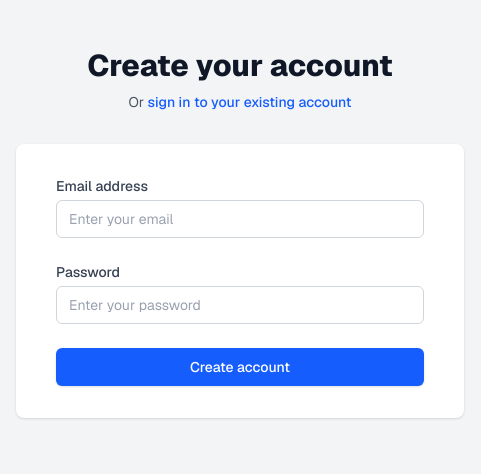
Test: Register Page › should show error for signup failure
Step 1. Type "test@example.com" into the field labelled "Email address" → {"x": 240, "y": 219}, box [56,200,424,238]
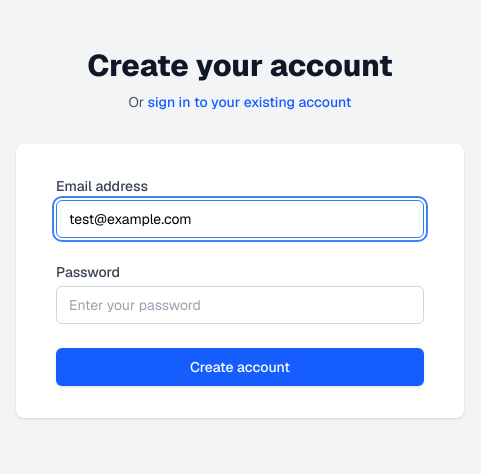
Step 2. Type "password123" into the password field labelled "Password" → {"x": 240, "y": 305}, box [56,286,424,324]
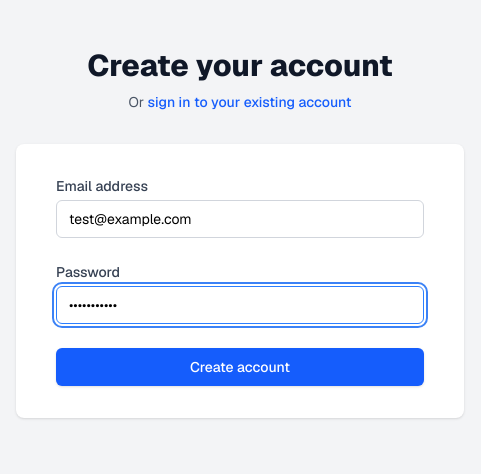
Step 3. Click the button "Create account" → {"x": 240, "y": 367}, box [56,348,424,386]
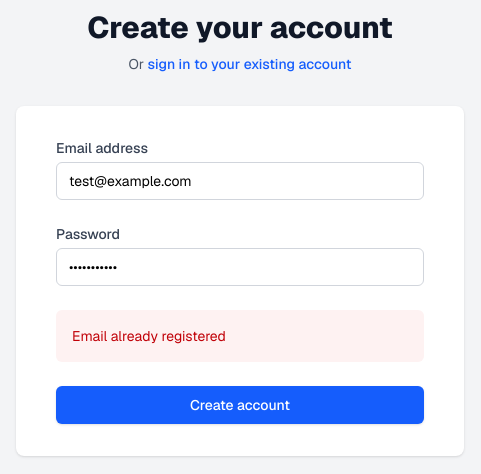
Expected: the text "Email already registered" is shown, [72,327,226,345]
